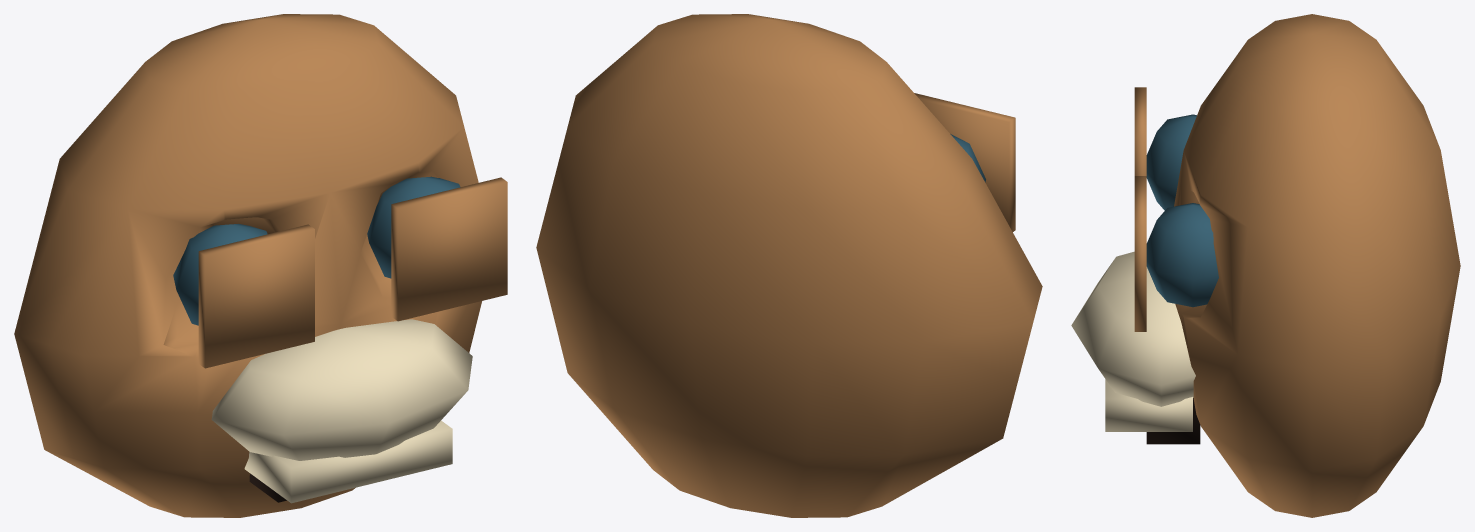
File: blink.glb
The picture shows the model from 3 angles, left to right: view 1: azimuth 30°, elevation 25°; view 2: azimuth 150°, elevation 25°; view 3: azimuth 270°, elevation 25°; orthographic projection. The views are drawn at different scales.
Parts seen in each view (by area): view 1: sample_head, sample_upper_muzzle, sample_lid_R, sample_lid_L, sample_lower_jaw, sample_eye_L, sample_eye_R; view 2: sample_head, sample_lid_L; view 3: sample_head, sample_upper_muzzle, sample_eye_R, sample_lower_jaw, sample_eye_L, sample_lid_R, sample_lid_L, sample_mouth_cavity.
Part boxes in pixels (<box>): sample_head: <box>14,14,481,517</box>; sample_upper_muzzle: <box>211,319,472,460</box>; sample_lid_R: <box>391,177,507,321</box>; sample_lid_L: <box>198,224,314,368</box>; sample_lower_jaw: <box>244,420,452,503</box>; sample_eye_L: <box>173,223,267,325</box>; sample_eye_R: <box>367,176,460,278</box>; sample_head: <box>536,14,1042,517</box>; sample_lid_L: <box>914,93,1015,231</box>; sample_head: <box>1174,14,1460,517</box>; sample_upper_muzzle: <box>1071,251,1195,406</box>; sample_eye_R: <box>1146,203,1218,307</box>; sample_lower_jaw: <box>1105,379,1192,431</box>; sample_eye_L: <box>1146,114,1196,210</box>; sample_lid_R: <box>1134,176,1146,331</box>; sample_lid_L: <box>1134,87,1146,175</box>; sample_mouth_cavity: <box>1146,398,1200,444</box>.
Bounding box in the file's own units: 2.14 × 2.1 × 1.6.
